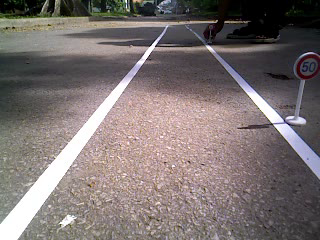limit 50: (293, 50, 320, 80)
